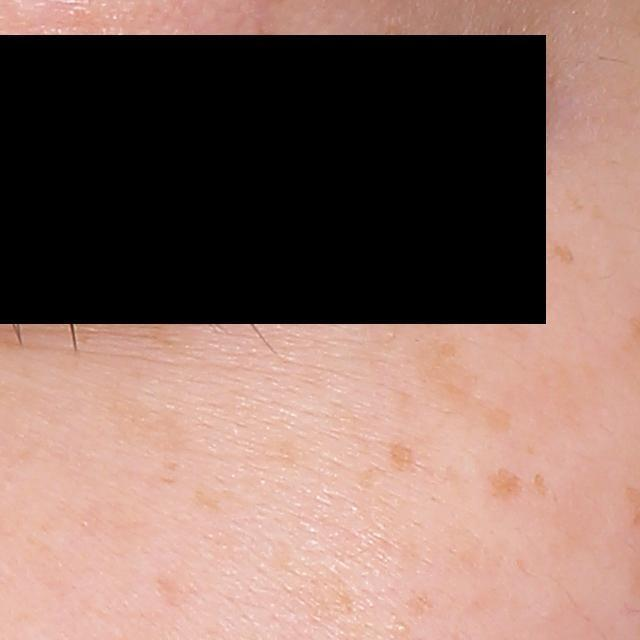melasma: (253, 533, 378, 631), (404, 330, 516, 428), (188, 482, 250, 515), (152, 568, 194, 611), (475, 463, 519, 499), (387, 443, 421, 476), (405, 584, 439, 616)
